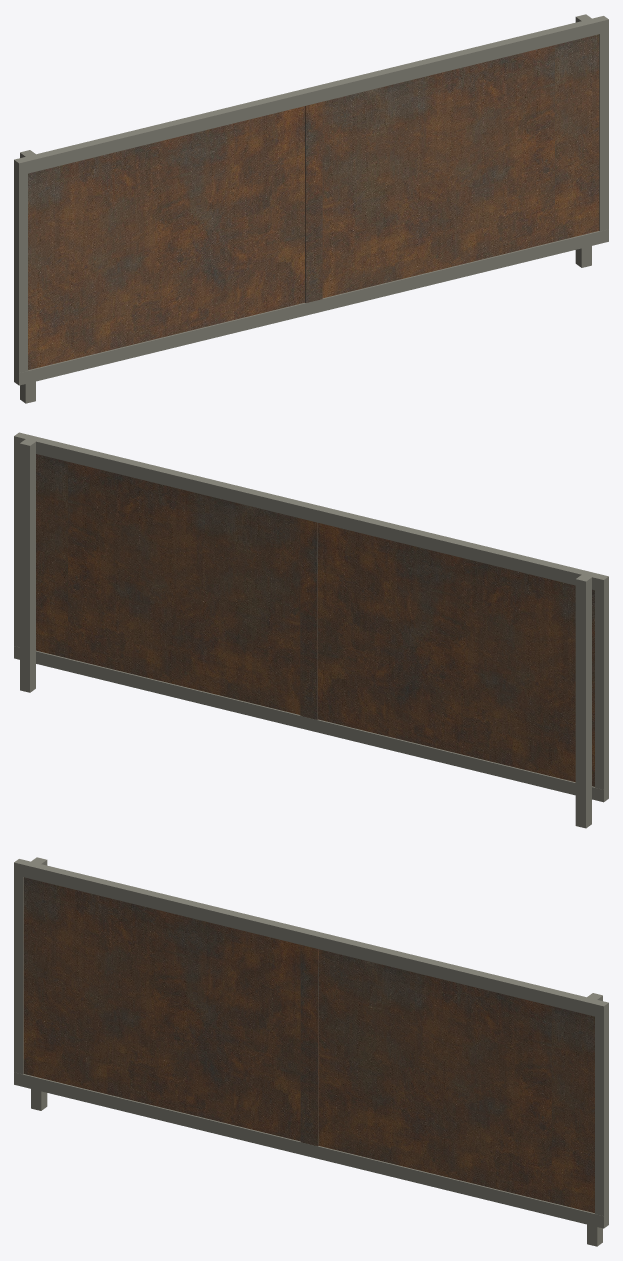
The model's file is EAFboarddesignryoumen_w1998-h720_oxycopper.fbx.
3 views of the same model, one above another, from view 1: azimuth 30°, elevation 25°; view 2: azimuth 150°, elevation 25°; view 3: azimuth 330°, elevation 25° (orthographic).
Visible parts, largest first — view 1: EAFboarddesignryoumen_w1998-h720_oxycopper; view 2: EAFboarddesignryoumen_w1998-h720_oxycopper; view 3: EAFboarddesignryoumen_w1998-h720_oxycopper.
Part boxes in pixels (<box>): EAFboarddesignryoumen_w1998-h720_oxycopper: <box>14,14,608,403</box>; EAFboarddesignryoumen_w1998-h720_oxycopper: <box>14,432,608,828</box>; EAFboarddesignryoumen_w1998-h720_oxycopper: <box>14,857,608,1246</box>.
Size of the model in its own units: 200 by 80 by 6.5.
4 materials, 4 textured.
